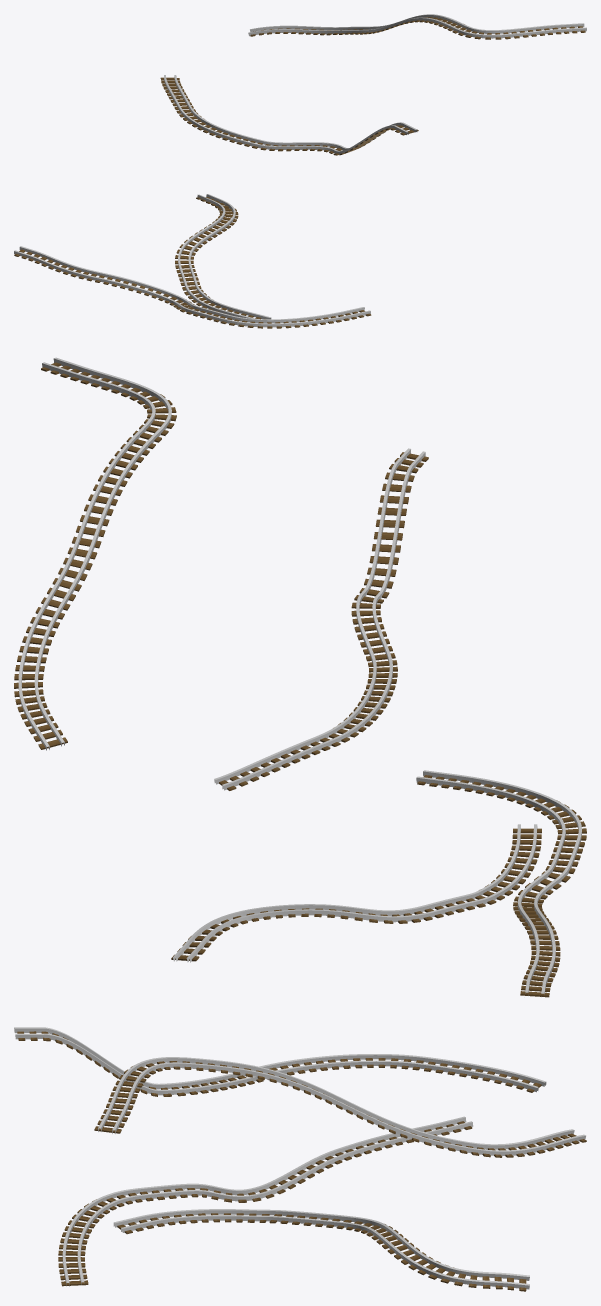
The model's file is Summit Tracks.fbx.
3 views of the same model, one above another, from view 1: azimuth 30°, elevation 25°; view 2: azimuth 150°, elevation 25°; view 3: azimuth 270°, elevation 25° (orthographic). The views are drawn at different scales.
Visible parts, largest first — view 1: Minecart Rails.001, Minecart Rails, Minecart Rails.003, Minecart Rails.002; view 2: Minecart Rails, Minecart Rails.003, Minecart Rails.001, Minecart Rails.002; view 3: Minecart Rails, Minecart Rails.001, Minecart Rails.003, Minecart Rails.002.
Boxes of the visible parts, <box> form: Minecart Rails.001: <box>14,246,371,328</box>; Minecart Rails: <box>248,14,586,39</box>; Minecart Rails.003: <box>160,75,418,155</box>; Minecart Rails.002: <box>175,194,271,323</box>; Minecart Rails: <box>14,357,176,750</box>; Minecart Rails.003: <box>214,448,428,790</box>; Minecart Rails.001: <box>416,770,586,997</box>; Minecart Rails.002: <box>171,824,541,962</box>; Minecart Rails: <box>94,1057,586,1157</box>; Minecart Rails.001: <box>58,1116,473,1286</box>; Minecart Rails.003: <box>14,1027,546,1096</box>; Minecart Rails.002: <box>113,1209,529,1291</box>.
Size of the model in its own units: 5939 by 2913 by 4609.
